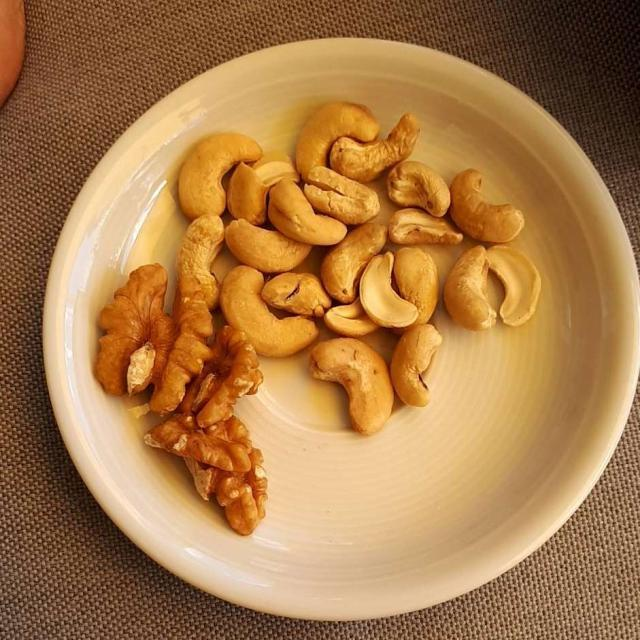cashew-nut: (177, 91, 542, 426)
walnut: (90, 264, 274, 544)
